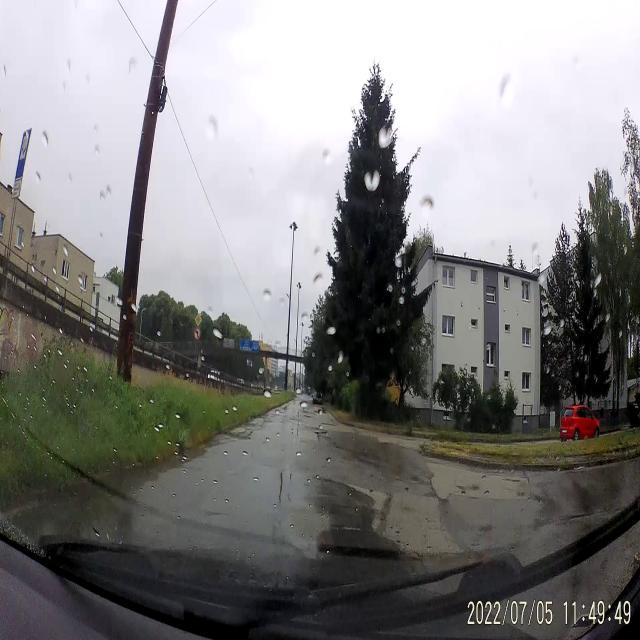Pothole: (220, 425, 262, 447)
